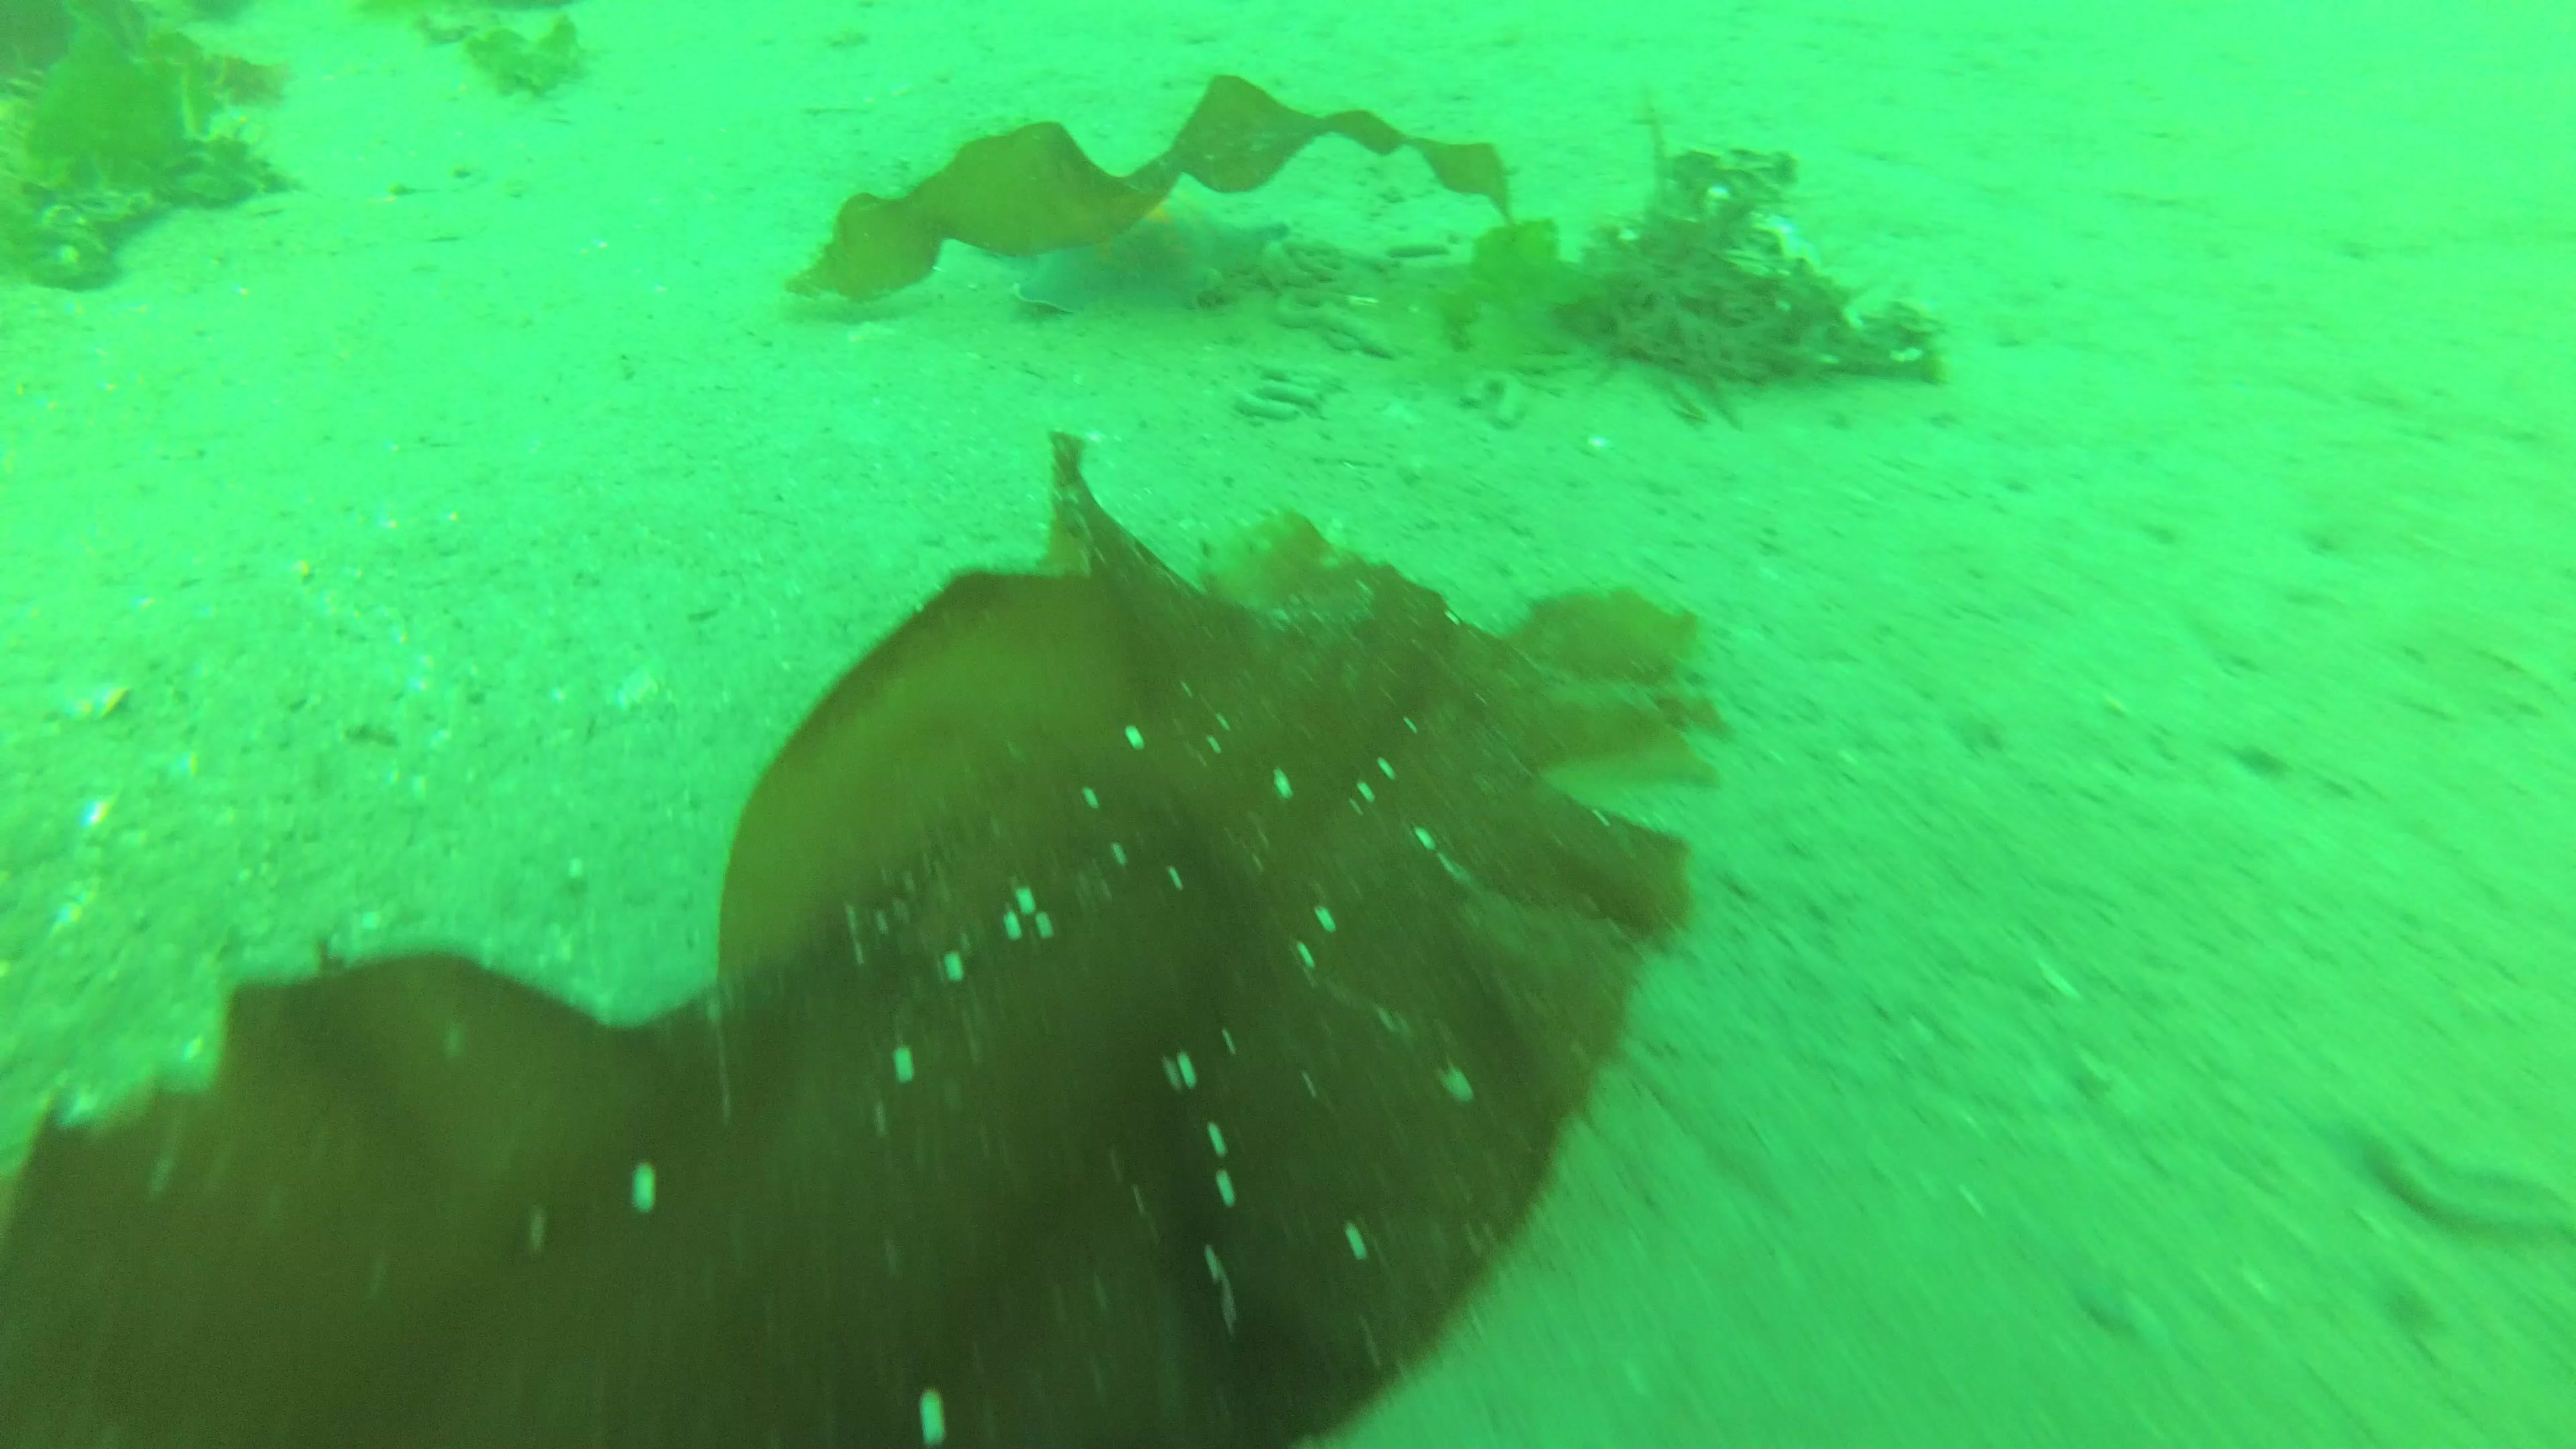starfish: (1010, 202, 1292, 313)
